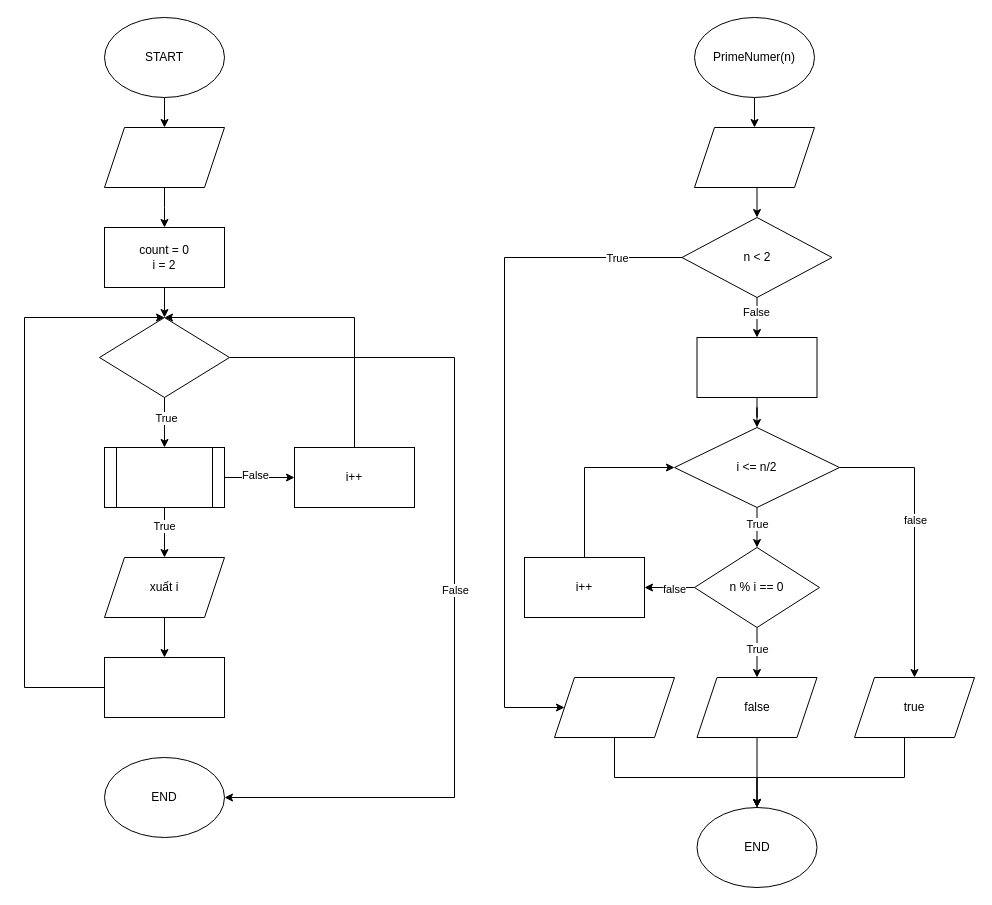
This 992x905 diagram has some shape labels left out. The shapes that lost their labels are listed below. From the top down, each one's centre as x and y in pixels, then its label:
At pixel 164 157: "nhập số nguyên dương n".
At pixel 754 157: "nhận biến n".
At pixel 164 357: "count < n".
At pixel 756 367: "i = 2".
At pixel 164 477: "PrimeNumber(i)".
At pixel 164 687: "count++".
At pixel 614 707: "flase".
